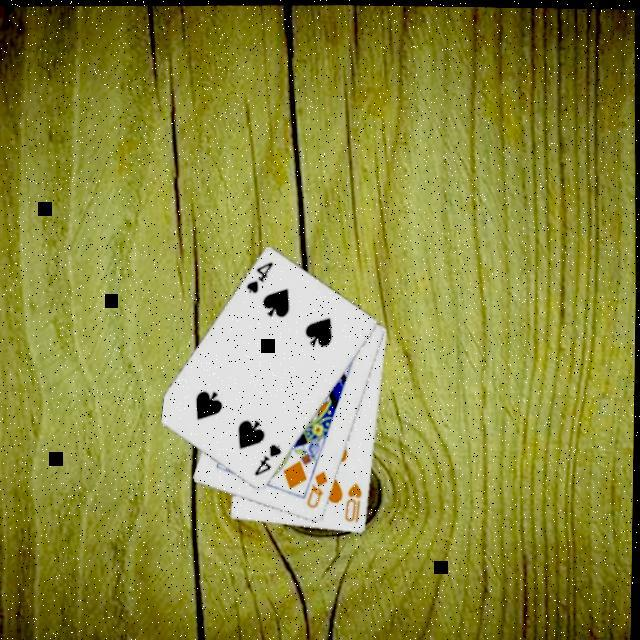10H: (340, 481, 365, 526)
4S: (240, 259, 275, 298), (249, 440, 283, 479)
QD: (302, 469, 332, 512)
